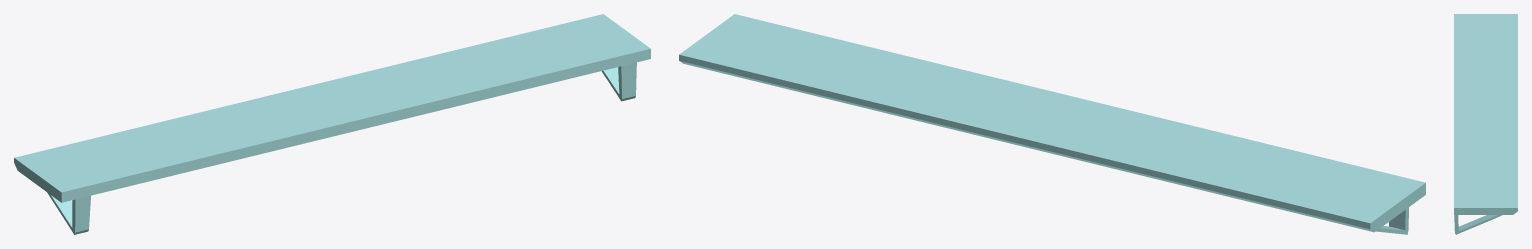
The model's file is PrateleiraC.fbx.
3 renders of one model, left to right at view 1: azimuth 30°, elevation 25°; view 2: azimuth 150°, elevation 25°; view 3: azimuth 270°, elevation 25°, orthographic. The views are drawn at different scales.
Parts seen in each view (by area): view 1: PrateleiraB; view 2: PrateleiraB; view 3: PrateleiraB.
Part boxes in pixels (x1,y1,x2,y2): PrateleiraB: [14, 14, 650, 234]; PrateleiraB: [679, 14, 1425, 234]; PrateleiraB: [1454, 14, 1517, 234].
Bounding box in the file's own units: 191 × 14.53 × 26.54.
